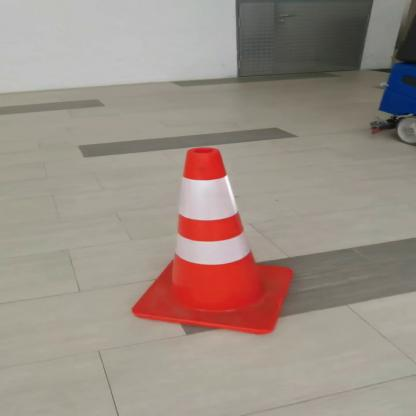cone: (100, 142, 318, 340)
